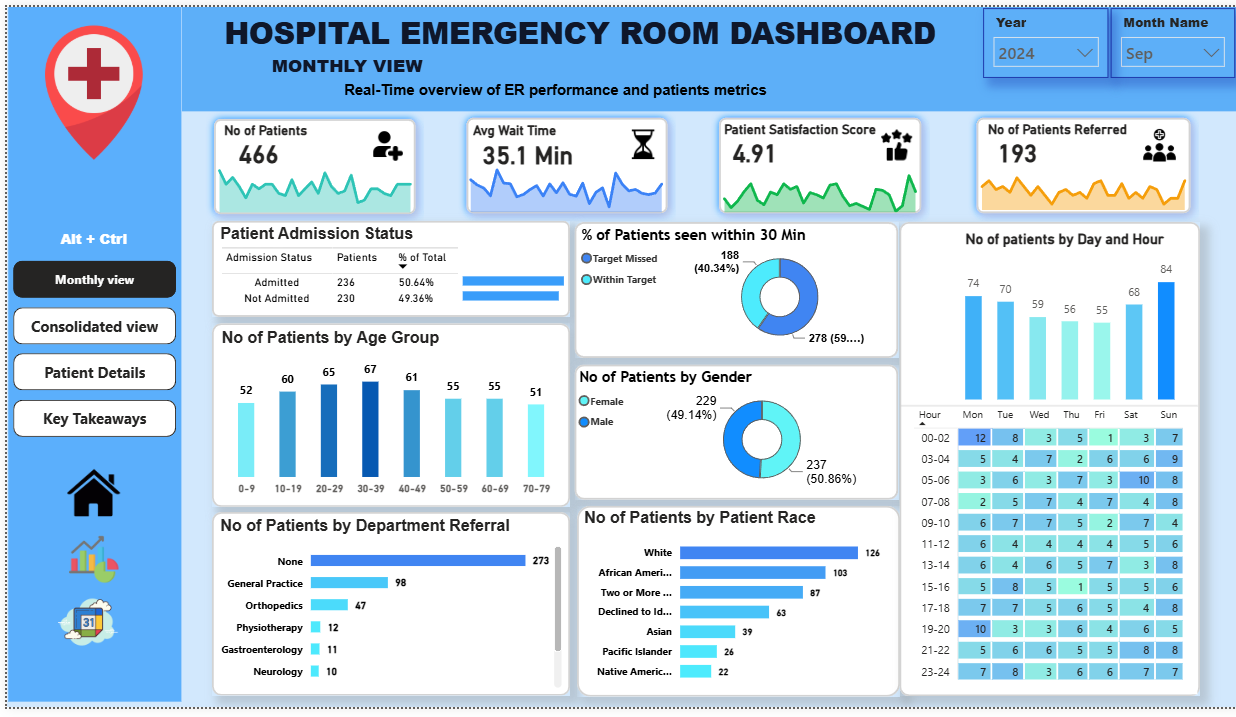

The dashboard page shown, as its layout file describes it:
{"tool":"powerbi","page":{"name":"Monthly view","canvas":[1333,756],"ordinal":0},"visuals":[{"type":"shape","box":[1.3,0,187.2,751],"z":0},{"type":"shape","box":[189.6,0,1142.9,113],"z":1000},{"type":"textbox","box":[229.6,0,1080.3,71.8],"z":2000},{"type":"textbox","box":[281.7,45.1,202.8,47.9],"z":3000},{"type":"slicer","fields":{"Values":["Date Table.Month Name"]},"box":[1193.2,1.1,134.1,75],"z":4000},{"type":"slicer","fields":{"Values":["Date Table.Year"]},"box":[1055.7,1.1,135.2,75],"z":5000},{"type":"shape","box":[214.9,111.5,235.8,120.8],"z":6000},{"type":"cardVisual","fields":{"Data":["Hospital ER_Data.No of Patients"]},"box":[221.9,125.5,124.3,65.1],"z":7000},{"type":"textbox","box":[230,118.5,202.1,39.5],"z":8000},{"type":"areaChart","fields":{"Category":["Date Table.Date.Variation.Date Hierarchy.Day"],"Y":["Hospital ER_Data.No of Patients"]},"box":[215.1,157.7,236.6,69.3],"z":9000},{"type":"shape","box":[487.3,111.3,235.2,121.1],"z":10000},{"type":"shape","box":[760.6,111.3,236.6,121.1],"z":11000},{"type":"shape","box":[1039.4,111.3,249.3,121.1],"z":12000},{"type":"textbox","box":[498.6,118.3,201.4,39.4],"z":13000},{"type":"areaChart","fields":{"Category":["Date Table.Date.Variation.Date Hierarchy.Day"],"Y":["Avg(Hospital ER_Data.Patient Waittime)"]},"box":[485.9,159.2,236.6,67.6],"z":14000},{"type":"cardVisual","fields":{"Data":["Hospital ER_Data.Avg Wait Time"]},"box":[484.5,125.4,173.2,66.2],"z":15000},{"type":"textbox","box":[770.4,116.9,202.8,40.8],"z":16000},{"type":"cardVisual","fields":{"Data":["Hospital ER_Data.Satisfaction Score"]},"box":[754.9,125.4,156.3,64.8],"z":17000},{"type":"areaChart","fields":{"Category":["Date Table.Date.Variation.Date Hierarchy.Day"],"Y":["Hospital ER_Data.Satisfaction Score"]},"box":[760.6,159.2,236.6,67.6],"z":18000},{"type":"textbox","box":[1054.9,116.9,201.4,40.8],"z":19000},{"type":"cardVisual","fields":{"Data":["Hospital ER_Data.No of Patients Referred"]},"box":[1042.3,125.4,157.7,64.8],"z":20000},{"type":"areaChart","fields":{"Category":["Date Table.Date.Variation.Date Hierarchy.Day"],"Y":["Hospital ER_Data.No of Patients Referred"]},"box":[1039.4,157.7,249.3,67.6],"z":21000},{"type":"shape","box":[222.2,230.7,387,104],"z":22000},{"type":"textbox","box":[359.2,76.1,516.9,35.2],"z":23000},{"type":"tableEx","title":"Patient Admission Status","fields":{"Values":["Hospital ER_Data.Admission Status","Hospital ER_Data.No of Patients1","Hospital ER_Data.No of Patients"]},"box":[225.6,234.6,369.2,96],"z":24000},{"type":"barChart","fields":{"Category":["Hospital ER_Data.Admission Status"],"Y":["Hospital ER_Data.No of Patients Referred"]},"box":[488.5,270.5,120.5,61.5],"z":25000},{"type":"shape","box":[221.8,342.3,387.2,198.7],"z":26000},{"type":"clusteredColumnChart","fields":{"Category":["Hospital ER_Data.Age Group"],"Y":["Hospital ER_Data.No of Patients"]},"box":[226.9,347.4,378,188],"z":27000},{"type":"shape","box":[221.8,546.2,387.2,198.7],"z":28000},{"type":"clusteredBarChart","fields":{"Category":["Hospital ER_Data.Department Referral"],"Y":["Hospital ER_Data.No of Patients"]},"box":[225.6,550,379,191],"z":29000},{"type":"shape","box":[614.1,232.1,350,147],"z":30000},{"type":"donutChart","title":"% of Patients seen within 30 Min","fields":{"Category":["Hospital ER_Data.Waittime Status"],"Y":["Hospital ER_Data.No of Patients"]},"box":[616.7,235.9,347.4,135.9],"z":31000},{"type":"shape","box":[614.1,385.9,350,146.2],"z":32000},{"type":"donutChart","title":"No of Patients by Gender","fields":{"Category":["Hospital ER_Data.Patient Gender"],"Y":["Hospital ER_Data.No of Patients"]},"box":[614.1,391,347.4,135.9],"z":33000},{"type":"shape","box":[615.6,539,349.4,206.5],"z":34000},{"type":"clusteredBarChart","fields":{"Y":["Hospital ER_Data.No of Patients"],"Category":["Hospital ER_Data.Patient Race"]},"box":[619.5,541.6,342.9,197.4],"z":35000},{"type":"shape","box":[964.8,233,325,512.5],"z":36000},{"type":"pivotTable","fields":{"Rows":["Hospital ER_Data.Waittime Interval"],"Columns":["Date Table.Day Name"],"Values":["Hospital ER_Data.No of Patients"]},"box":[976.1,427.3,311.4,315.9],"z":37000},{"type":"columnChart","title":"No of patients by Day and Hour","fields":{"Category":["Date Table.Day Name"],"Y":["Hospital ER_Data.No of Patients"]},"box":[1030.7,242,237.5,188.6],"z":38000},{"type":"shape","box":[964.8,280.7,322.7,300],"z":39000},{"type":"image","box":[13.5,5.4,160.8,174.3],"z":40000},{"type":"image","box":[1228.2,126.8,35.2,45.1],"z":41000},{"type":"image","box":[395.8,126.8,32.4,46.5],"z":42000},{"type":"image","box":[938,132.4,47.9,33.8],"z":43000},{"type":"image","box":[657.7,132.4,59.2,32.4],"z":44000},{"type":"pageNavigator","box":[7,274.6,176.1,193],"z":45000},{"type":"image","box":[65.4,459,57.7,130.8],"z":46000},{"type":"image","box":[66.7,534.6,55.1,124.4],"z":47000},{"type":"image","box":[50,629.7,73,70.3],"z":47001},{"type":"textbox","box":[52.7,235.1,82.4,58.1],"z":47002}]}

Visuals, with their boxes in screenshot pixels (x1, y1, x2, y2), scaled from the page's 1333x756 canvas onto the 1236x717 screenshot:
shape: (left=1, top=0, right=175, bottom=712)
shape: (left=176, top=0, right=1235, bottom=107)
textbox: (left=213, top=0, right=1215, bottom=68)
textbox: (left=261, top=43, right=449, bottom=88)
slicer - Date Table.Month Name: (left=1106, top=1, right=1231, bottom=72)
slicer - Date Table.Year: (left=979, top=1, right=1104, bottom=72)
shape: (left=199, top=106, right=418, bottom=220)
cardVisual - Hospital ER_Data.No of Patients: (left=206, top=119, right=321, bottom=181)
textbox: (left=213, top=112, right=401, bottom=150)
areaChart - Date Table.Date.Variation.Date Hierarchy.Day x Hospital ER_Data.No of Patients: (left=199, top=150, right=419, bottom=215)
shape: (left=452, top=106, right=670, bottom=220)
shape: (left=705, top=106, right=925, bottom=220)
shape: (left=964, top=106, right=1195, bottom=220)
textbox: (left=462, top=112, right=649, bottom=150)
areaChart - Date Table.Date.Variation.Date Hierarchy.Day x Avg(Hospital ER_Data.Patient Waittime): (left=451, top=151, right=670, bottom=215)
cardVisual - Hospital ER_Data.Avg Wait Time: (left=449, top=119, right=610, bottom=182)
textbox: (left=714, top=111, right=902, bottom=150)
cardVisual - Hospital ER_Data.Satisfaction Score: (left=700, top=119, right=845, bottom=180)
areaChart - Date Table.Date.Variation.Date Hierarchy.Day x Hospital ER_Data.Satisfaction Score: (left=705, top=151, right=925, bottom=215)
textbox: (left=978, top=111, right=1165, bottom=150)
cardVisual - Hospital ER_Data.No of Patients Referred: (left=966, top=119, right=1113, bottom=180)
areaChart - Date Table.Date.Variation.Date Hierarchy.Day x Hospital ER_Data.No of Patients Referred: (left=964, top=150, right=1195, bottom=214)
shape: (left=206, top=219, right=565, bottom=317)
textbox: (left=333, top=72, right=812, bottom=106)
"Patient Admission Status" tableEx: (left=209, top=222, right=552, bottom=314)
barChart - Hospital ER_Data.Admission Status x Hospital ER_Data.No of Patients Referred: (left=453, top=257, right=565, bottom=315)
shape: (left=206, top=325, right=565, bottom=513)
clusteredColumnChart - Hospital ER_Data.Age Group x Hospital ER_Data.No of Patients: (left=210, top=329, right=561, bottom=508)
shape: (left=206, top=518, right=565, bottom=706)
clusteredBarChart - Hospital ER_Data.Department Referral x Hospital ER_Data.No of Patients: (left=209, top=522, right=561, bottom=703)
shape: (left=569, top=220, right=894, bottom=360)
"% of Patients seen within 30 Min" donutChart: (left=572, top=224, right=894, bottom=353)
shape: (left=569, top=366, right=894, bottom=505)
"No of Patients by Gender" donutChart: (left=569, top=371, right=892, bottom=500)
shape: (left=571, top=511, right=895, bottom=707)
clusteredBarChart - Hospital ER_Data.No of Patients x Hospital ER_Data.Patient Race: (left=574, top=514, right=892, bottom=701)
shape: (left=895, top=221, right=1196, bottom=707)
pivotTable - Hospital ER_Data.Waittime Interval x Date Table.Day Name: (left=905, top=405, right=1194, bottom=705)
"No of patients by Day and Hour" columnChart: (left=956, top=230, right=1176, bottom=408)
shape: (left=895, top=266, right=1194, bottom=551)
image: (left=13, top=5, right=162, bottom=170)
image: (left=1139, top=120, right=1171, bottom=163)
image: (left=367, top=120, right=397, bottom=164)
image: (left=870, top=126, right=914, bottom=158)
image: (left=610, top=126, right=665, bottom=156)
pageNavigator: (left=6, top=260, right=170, bottom=443)
image: (left=61, top=435, right=114, bottom=559)
image: (left=62, top=507, right=113, bottom=625)
image: (left=46, top=597, right=114, bottom=664)
textbox: (left=49, top=223, right=125, bottom=278)
